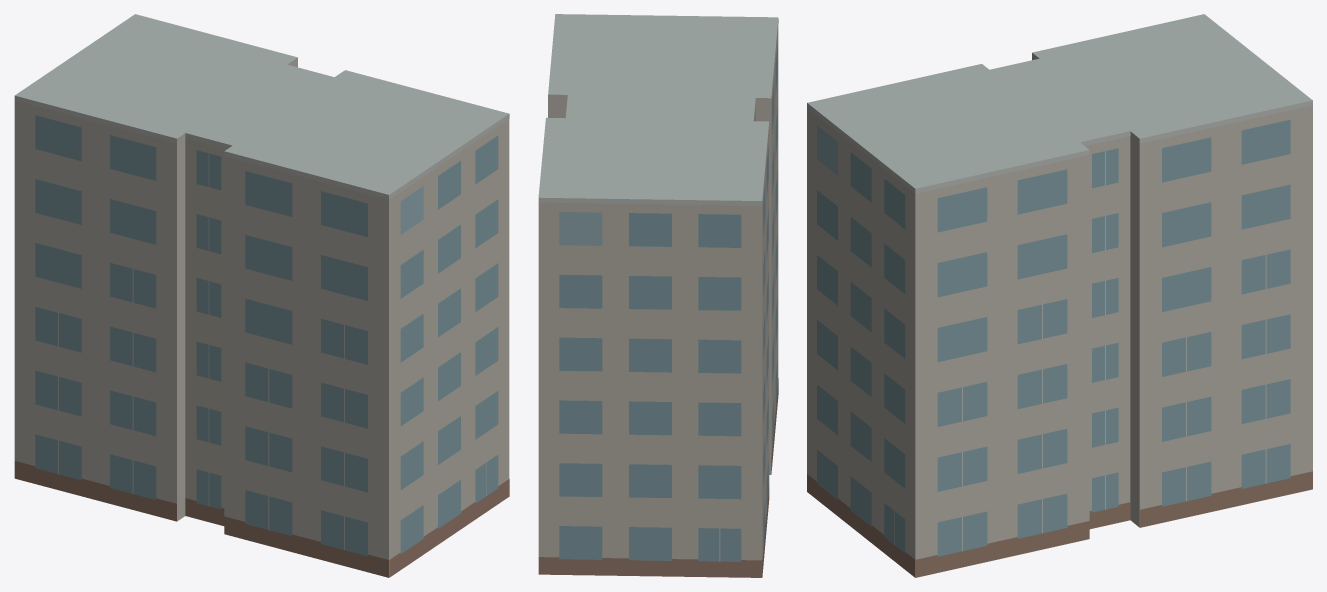
The model's file is survey-upis-32745067.glb.
The picture shows the model from 3 angles, left to right: view 1: azimuth 30°, elevation 25°; view 2: azimuth 150°, elevation 25°; view 3: azimuth 270°, elevation 25°; orthographic projection. The views are drawn at different scales.
Visible parts, largest first — view 1: survey-upis-32745067.tmp; view 2: survey-upis-32745067.tmp; view 3: survey-upis-32745067.tmp.
Boxes of the visible parts, bbox=[...] form: survey-upis-32745067.tmp: bbox=[14, 14, 509, 577]; survey-upis-32745067.tmp: bbox=[538, 14, 778, 577]; survey-upis-32745067.tmp: bbox=[807, 14, 1312, 577].
Bounding box in the file's own units: 18.27 × 18.95 × 22.34.
